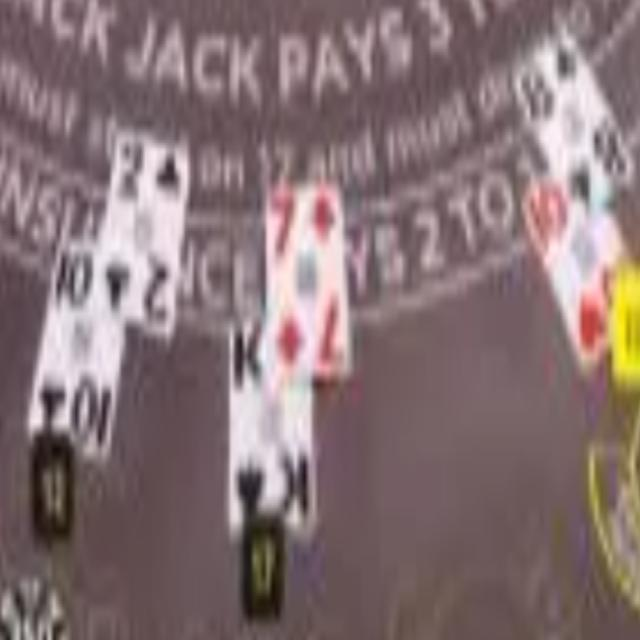Card-10: (520, 167, 632, 372), (28, 227, 124, 461)
Card-2: (91, 130, 189, 336)
Card-7: (267, 181, 351, 389)
Card-8: (513, 28, 632, 229)
Card-K: (228, 316, 315, 535)
